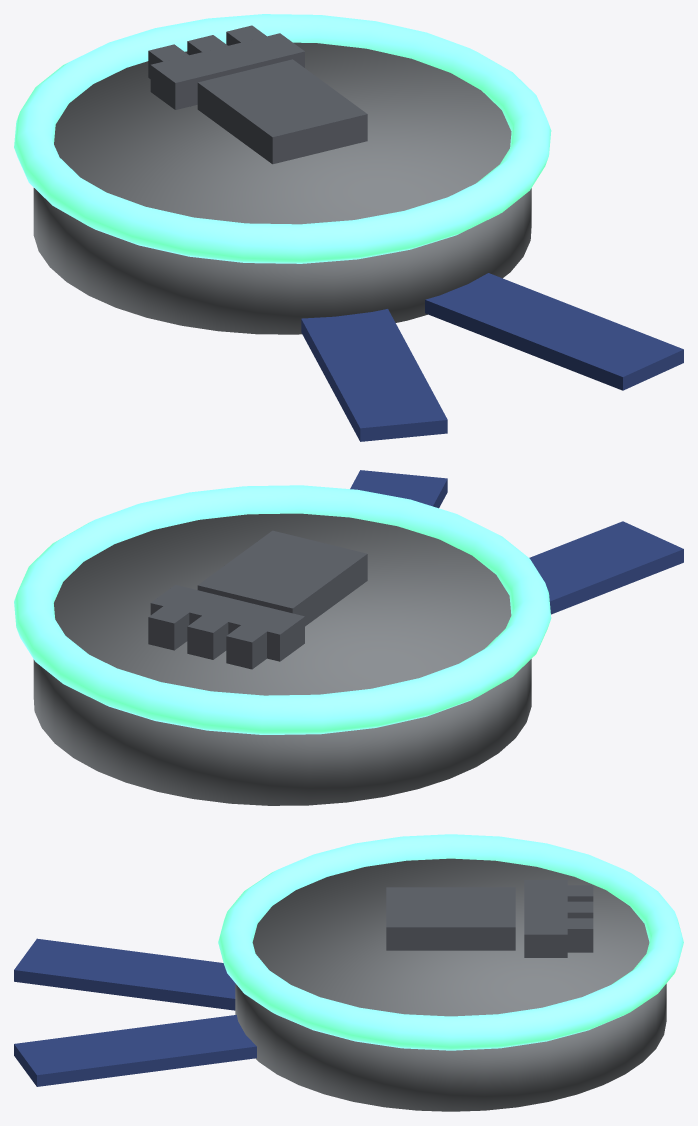
File: wachtsiegel.glb
The picture shows the model from 3 angles, top to bottom: view 1: azimuth 30°, elevation 25°; view 2: azimuth 150°, elevation 25°; view 3: azimuth 270°, elevation 25°; orthographic projection. The views are drawn at different scales.
Visible parts, largest first — view 1: Cylinder; view 2: Cylinder; view 3: Cylinder.
Part boxes in pixels (<box>): Cylinder: <box>14,14,683,441</box>; Cylinder: <box>14,470,683,805</box>; Cylinder: <box>14,834,683,1111</box>.
Size of the model in its own units: 0.108 by 0.029 by 0.1553.
